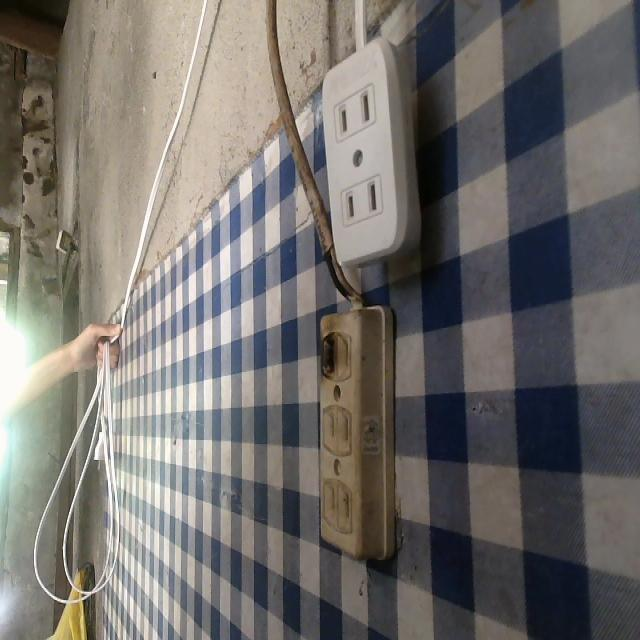-: (313, 327, 342, 381)
